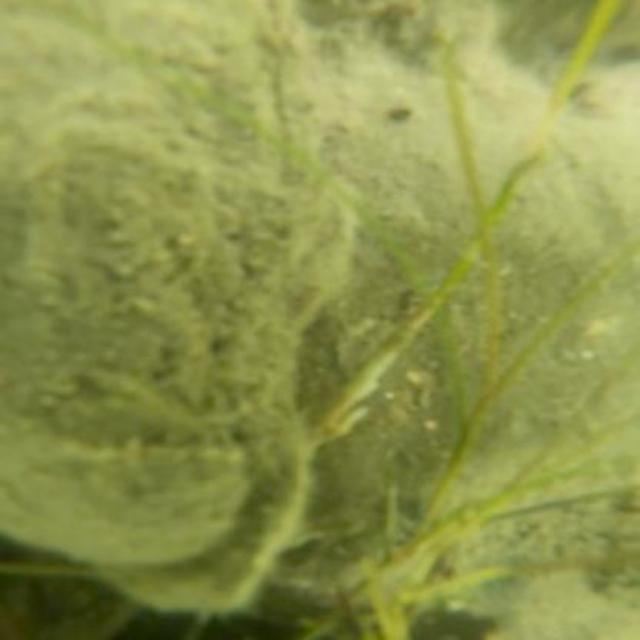Oyster-Open: (0, 90, 374, 617)
